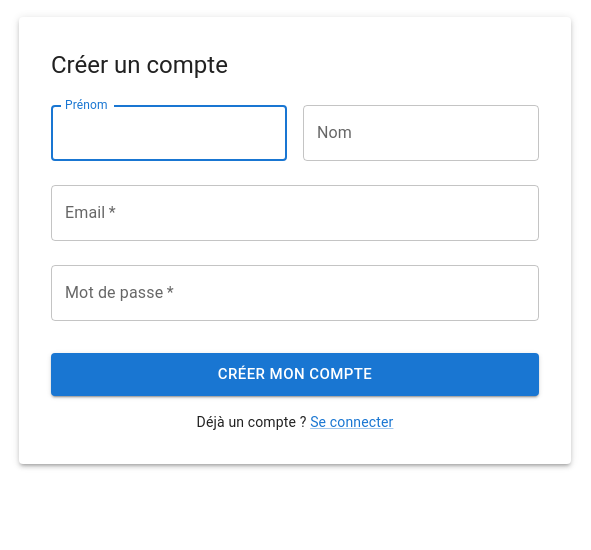
RegisterPage › shows flattened API error messages on registration failure
What coordinates should you click on to do the following:
click the button "Créer mon compte"
I would click on:
 (295, 375)
Its box is [51, 353, 539, 396].
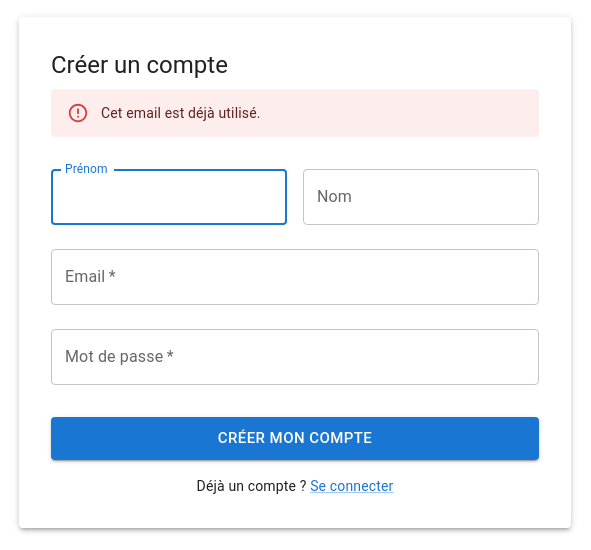
Check: the text "Cet email est déjà utilisé." is shown, box [101, 105, 260, 121]
